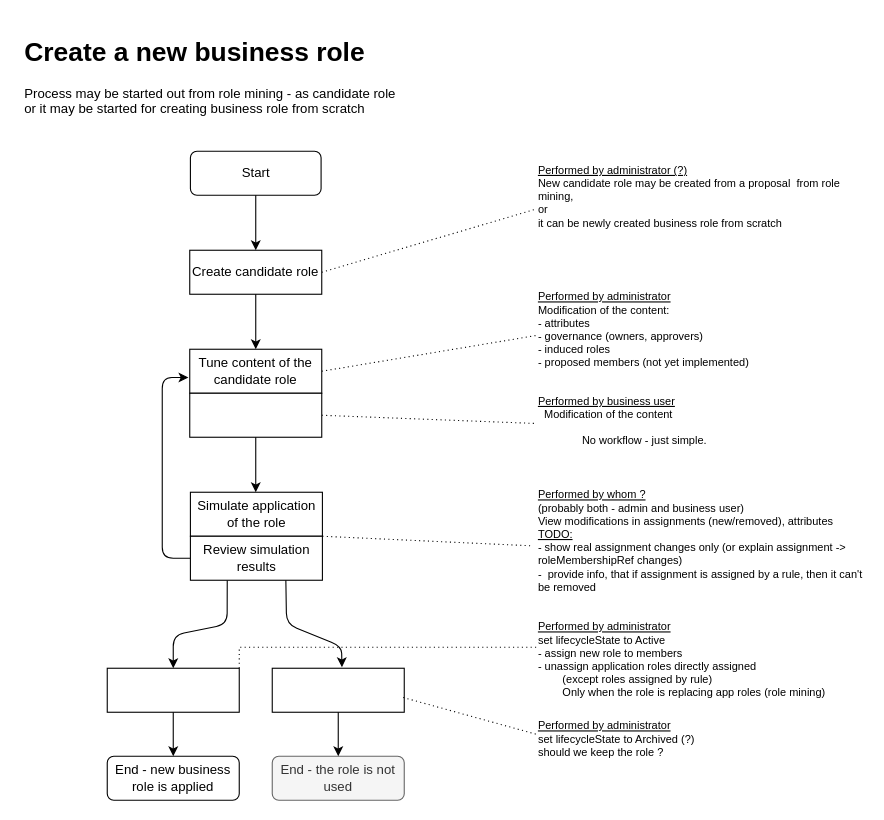
This 884x820 diagram has some shape labels left out. The shapes that lost their labels are listed below. From the top down, each one's centre as x and y in pixels, then its label:
At pixel 255 414: "Perform business review".
At pixel 172 689: "Set the candidate role to production".
At pixel 337 689: "Cleanup of the candidate role".
